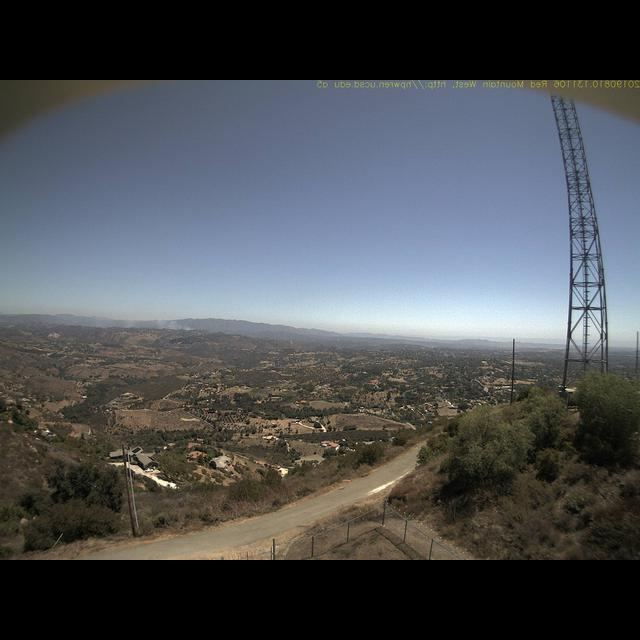Smoke: (77, 304, 201, 334)
